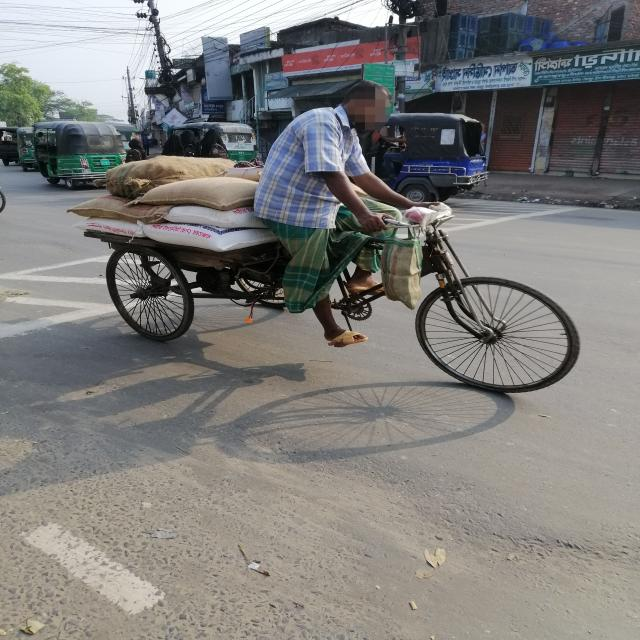Van: (79, 184, 589, 400)
